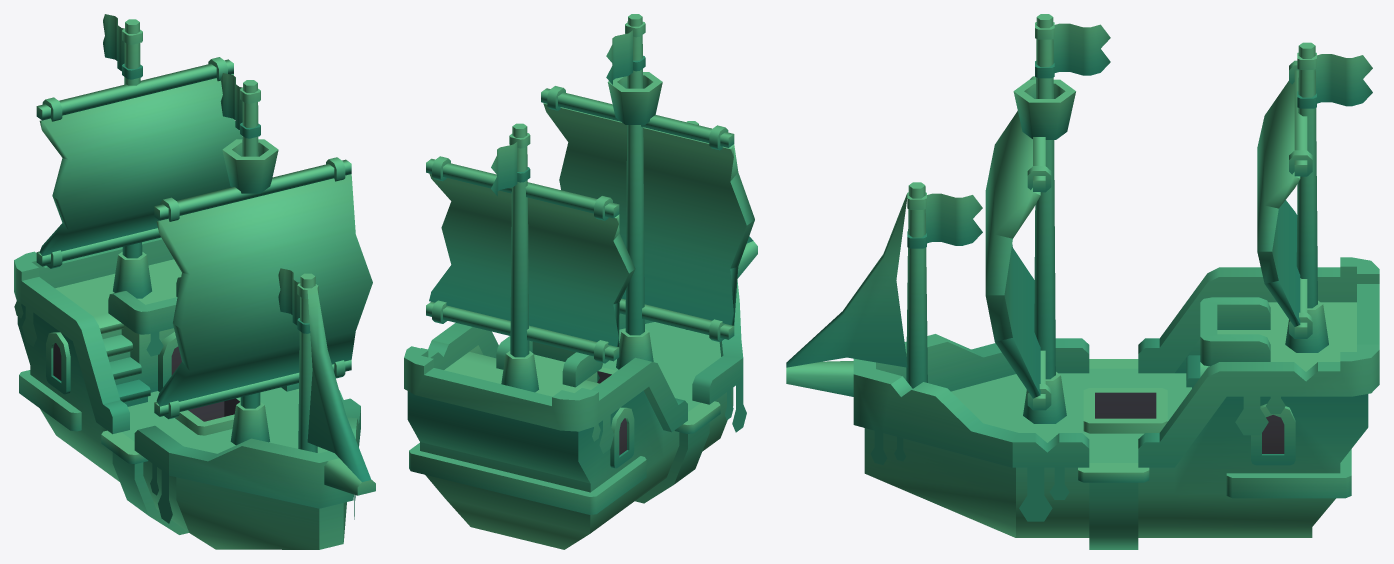
Rendered from ship-ghost.glb.
3 renders of one model, left to right at view 1: azimuth 30°, elevation 25°; view 2: azimuth 150°, elevation 25°; view 3: azimuth 270°, elevation 25°, orthographic. The views are drawn at different scales.
Visible parts, largest first — view 1: ship-ghost, sail-a, sail-b, flag-b, flag-c, flag-a; view 2: ship-ghost, sail-a, sail-b, flag-c, flag-b; view 3: ship-ghost, sail-a, sail-b, flag-b, flag-c, flag-a.
Boxes of the visible parts, x1=… form: ship-ghost: x1=14, y1=19, x2=375, y2=549; sail-a: x1=154, y1=157, x2=372, y2=419; sail-b: x1=36, y1=57, x2=242, y2=268; flag-b: x1=220, y1=73, x2=260, y2=138; flag-c: x1=103, y1=14, x2=142, y2=79; flag-a: x1=278, y1=268, x2=318, y2=333; ship-ghost: x1=404, y1=14, x2=757, y2=549; sail-a: x1=541, y1=86, x2=754, y2=341; sail-b: x1=426, y1=156, x2=635, y2=363; flag-c: x1=491, y1=133, x2=530, y2=196; flag-b: x1=606, y1=21, x2=645, y2=84; ship-ghost: x1=786, y1=14, x2=1379, y2=549; sail-a: x1=985, y1=76, x2=1051, y2=410; sail-b: x1=1257, y1=60, x2=1312, y2=338; flag-b: x1=1035, y1=22, x2=1110, y2=78; flag-c: x1=1297, y1=52, x2=1372, y2=108; flag-a: x1=907, y1=192, x2=982, y2=248.
Bounding box in the file's own units: 4.8 × 9.96 × 10.6.
Materials: 1 (1 with a texture image).
